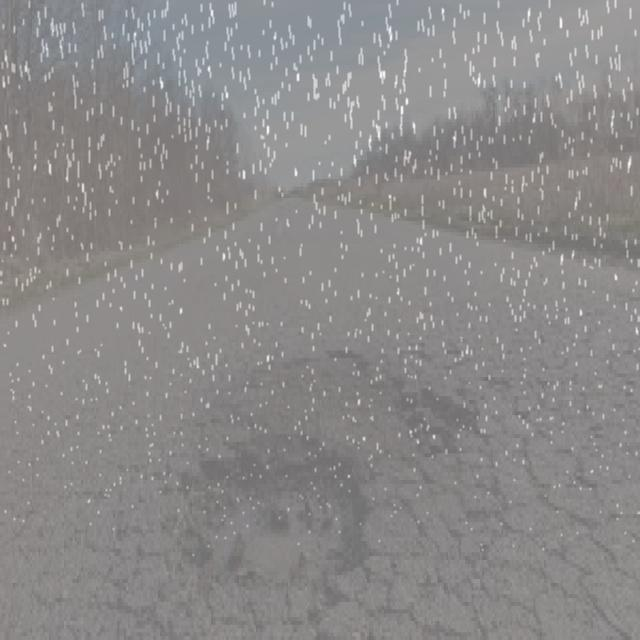Pothole: (150, 341, 521, 640)
